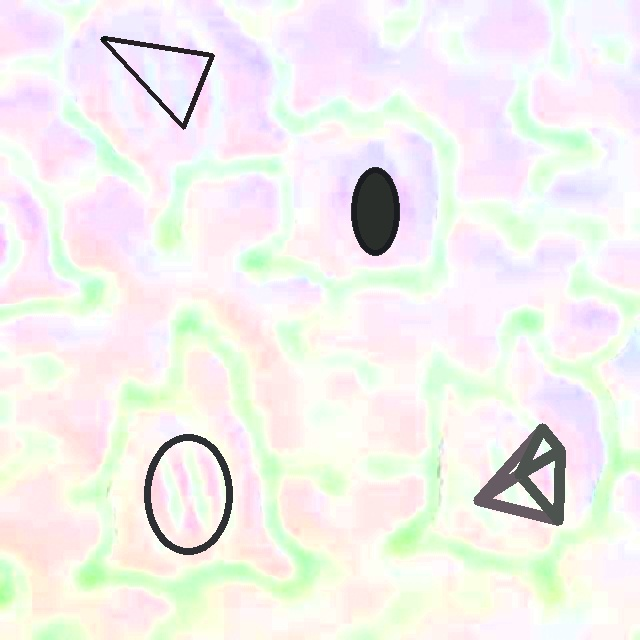close: (351, 168, 399, 255)
open: (144, 434, 233, 554), (100, 36, 214, 129), (474, 424, 564, 524)
